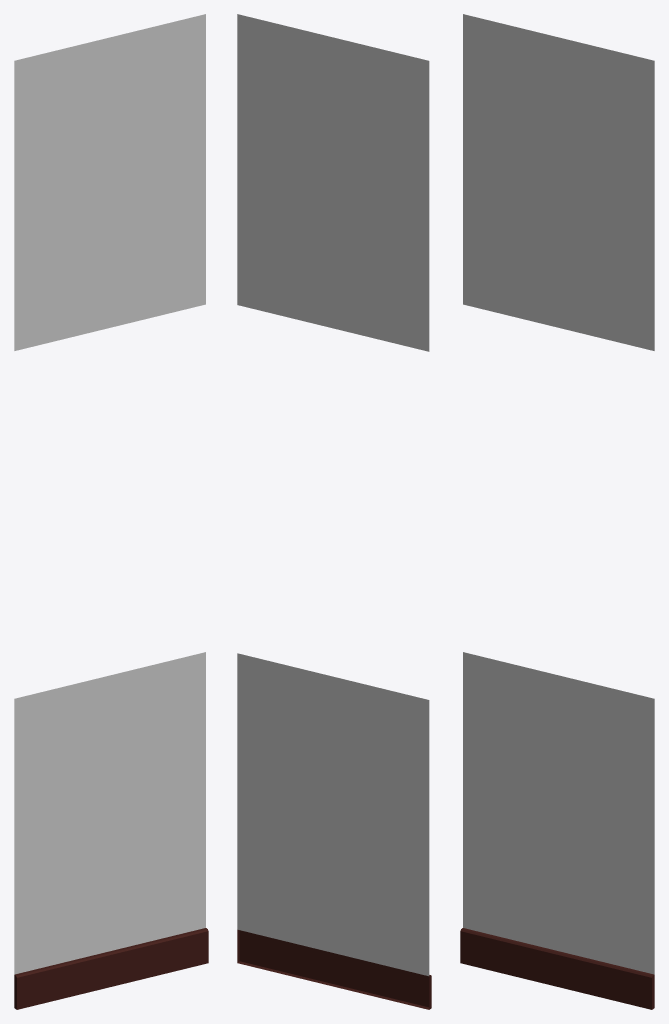
The model's file is Hallway_Wall.020.fbx.
3 views of the same model, side by side, from view 1: azimuth 30°, elevation 25°; view 2: azimuth 150°, elevation 25°; view 3: azimuth 330°, elevation 25° (orthographic).
Visible parts, largest first — view 1: Hallway_Wall.020; view 2: Hallway_Wall.020; view 3: Hallway_Wall.020.
Boxes of the visible parts, x1=… form: Hallway_Wall.020: x1=14, y1=14, x2=208, y2=1009; Hallway_Wall.020: x1=237, y1=14, x2=431, y2=1009; Hallway_Wall.020: x1=460, y1=14, x2=654, y2=1009.
Bounding box in the file's own units: 58.19 × 275 × 1.33.
